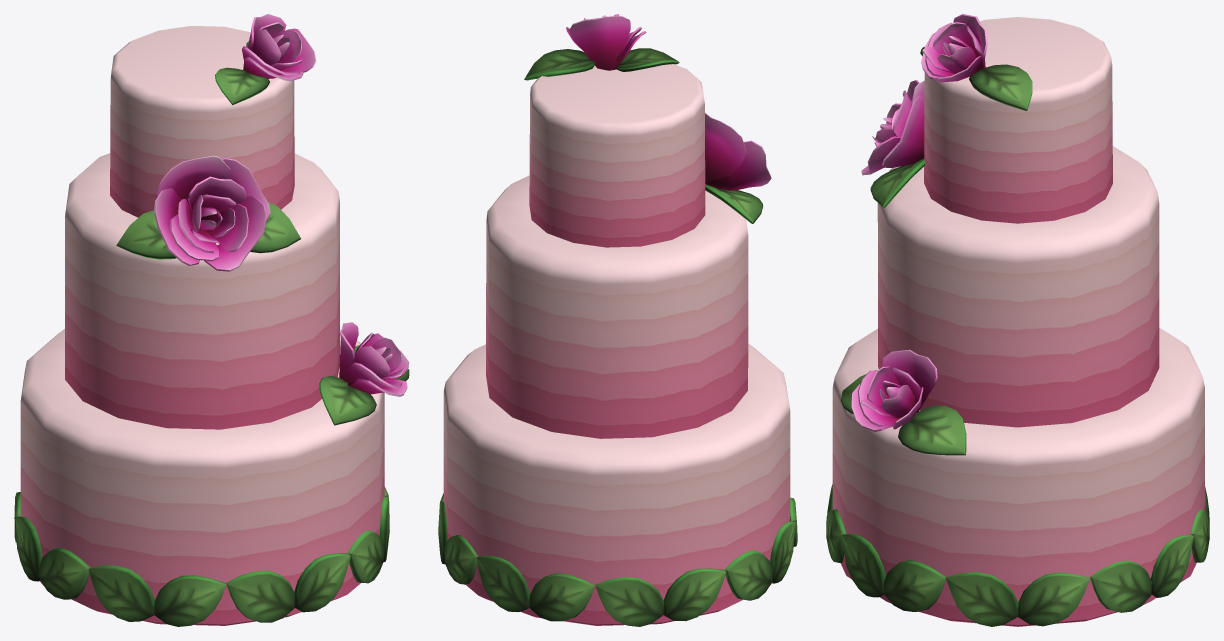
The model's file is Wedding_01_Whole.fbx.
3 views of the same model, side by side, from view 1: azimuth 30°, elevation 25°; view 2: azimuth 150°, elevation 25°; view 3: azimuth 270°, elevation 25° (orthographic). The views are drawn at different scales.
Parts seen in each view (by area): view 1: Wedding_01_Whole; view 2: Wedding_01_Whole; view 3: Wedding_01_Whole.
Boxes of the visible parts, <box> form: Wedding_01_Whole: <box>14,14,409,626</box>; Wedding_01_Whole: <box>438,14,797,626</box>; Wedding_01_Whole: <box>826,14,1209,626</box>.
Size of the model in its own units: 123 by 195 by 123.
